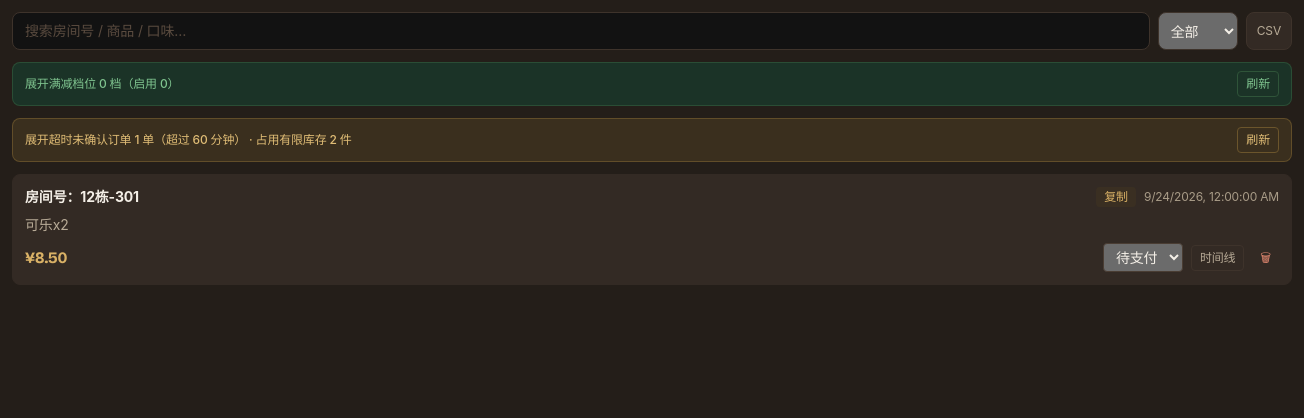
it: OrdersTab 超时订单面板 › 展开清单：付款截图徽标可见；取消按钮走 updateOrderStatus(cancelled) 并刷新
This screenshot has width=1304, height=418.
What coordinates should you click on to do the following:
click the button "超时未确认订单 1 单"
I would click on:
 (188, 140)
Its box is [25,132,352,148].
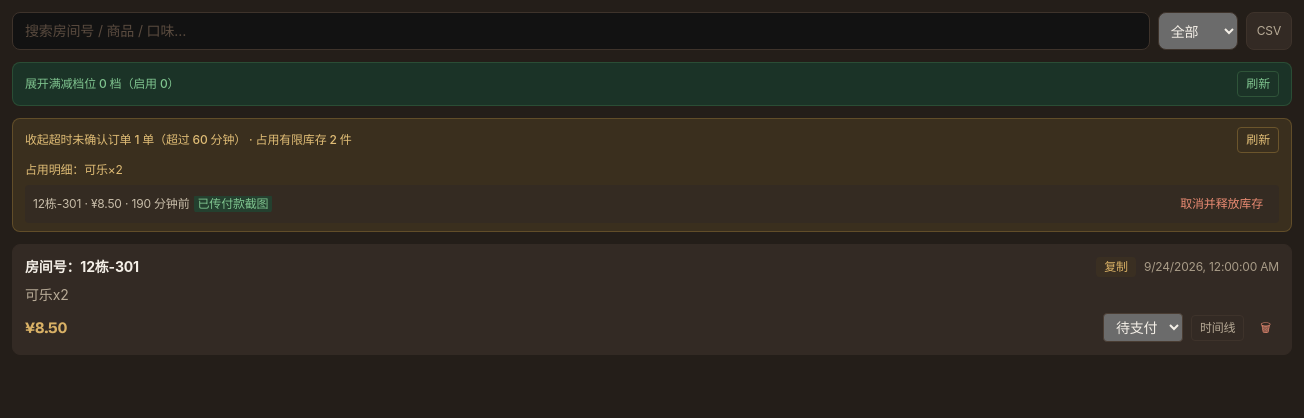
Result: the text "已传付款截图" is shown at [194,196,272,212]
What coordinates should you click on to do the following:
click the button "取消并释放库存"
I would click on:
 (1222, 204)
Its box is [1172,191,1271,217].
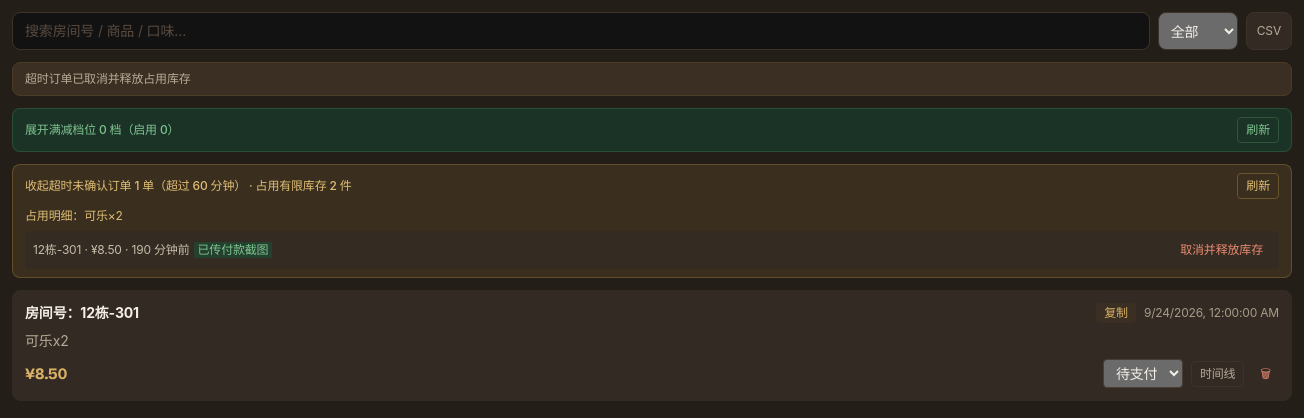
Result: the text "超时订单已取消并释放占用库存" is shown at [12,62,1292,96]
